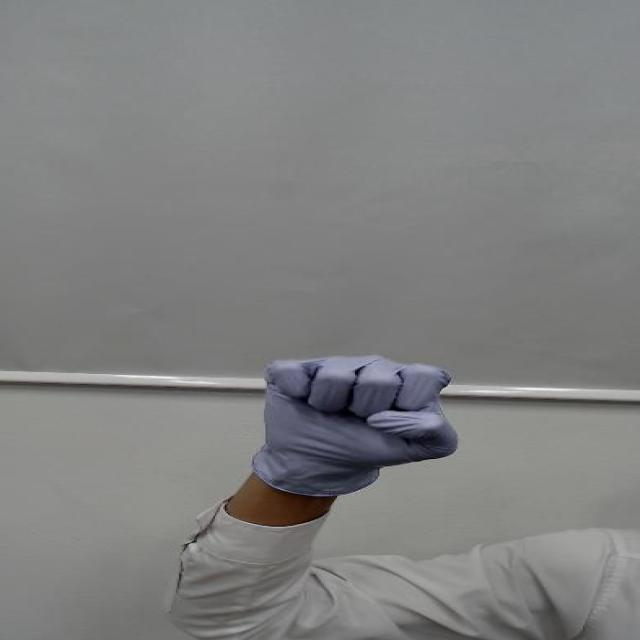glove: (231, 352, 476, 482)
